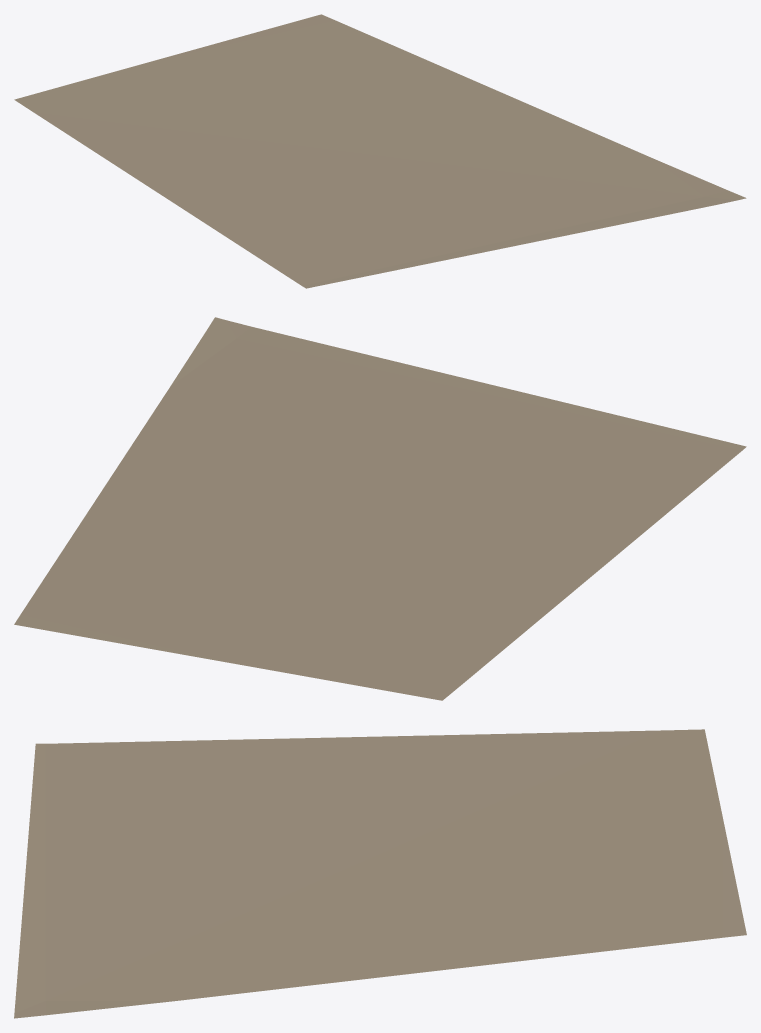
File: farm_14_15_soil.glb
3 views of the same model, one above another, from view 1: azimuth 30°, elevation 25°; view 2: azimuth 150°, elevation 25°; view 3: azimuth 270°, elevation 25° (orthographic). The views are drawn at different scales.
Parts seen in each view (by area): view 1: geometry_0; view 2: geometry_0; view 3: geometry_0.
Boxes of the visible parts, bbox=[...] form: geometry_0: bbox=[14, 14, 746, 288]; geometry_0: bbox=[14, 317, 746, 700]; geometry_0: bbox=[14, 729, 746, 1018].
Bounding box in the file's own units: 77.97 × 1.49 × 86.54.
